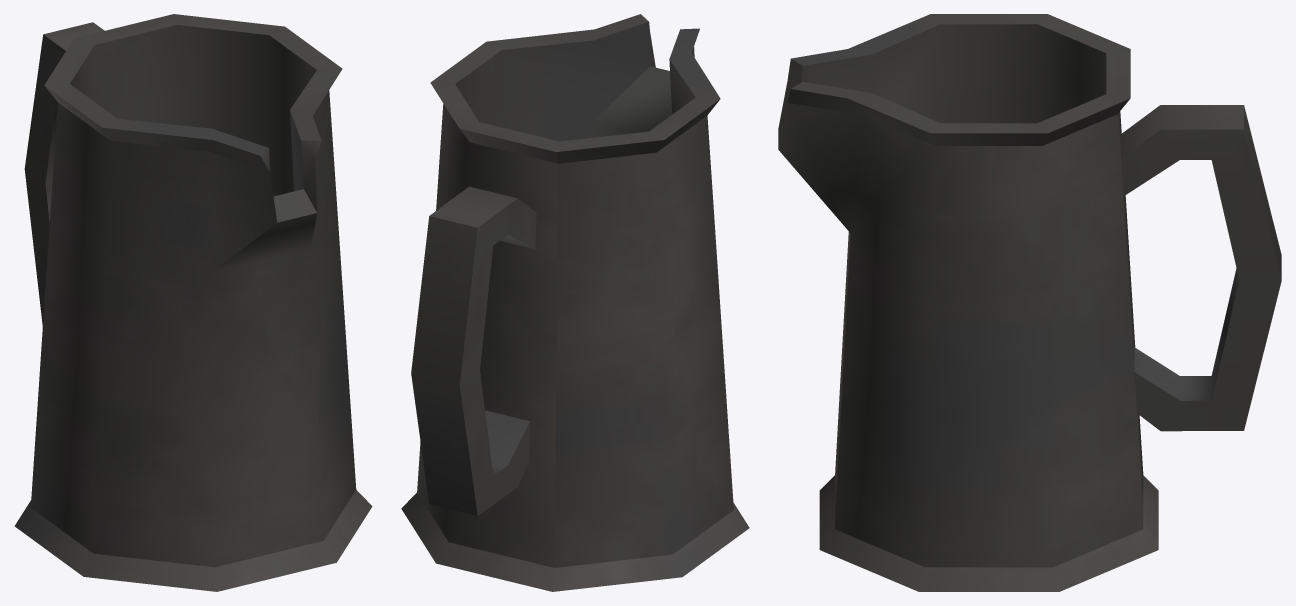
The model's file is Dw_Pitcher.glb.
The picture shows the model from 3 angles, left to right: view 1: azimuth 30°, elevation 25°; view 2: azimuth 150°, elevation 25°; view 3: azimuth 270°, elevation 25°; orthographic projection. The views are drawn at different scales.
Parts seen in each view (by area): view 1: Dw_Pitcher; view 2: Dw_Pitcher; view 3: Dw_Pitcher.
Boxes of the visible parts, <box> form: Dw_Pitcher: <box>14,14,372,591</box>; Dw_Pitcher: <box>401,14,749,591</box>; Dw_Pitcher: <box>778,14,1281,591</box>.
Bounding box in the file's own units: 0.1549 × 0.2251 × 0.23.
1 material, 1 textured.
